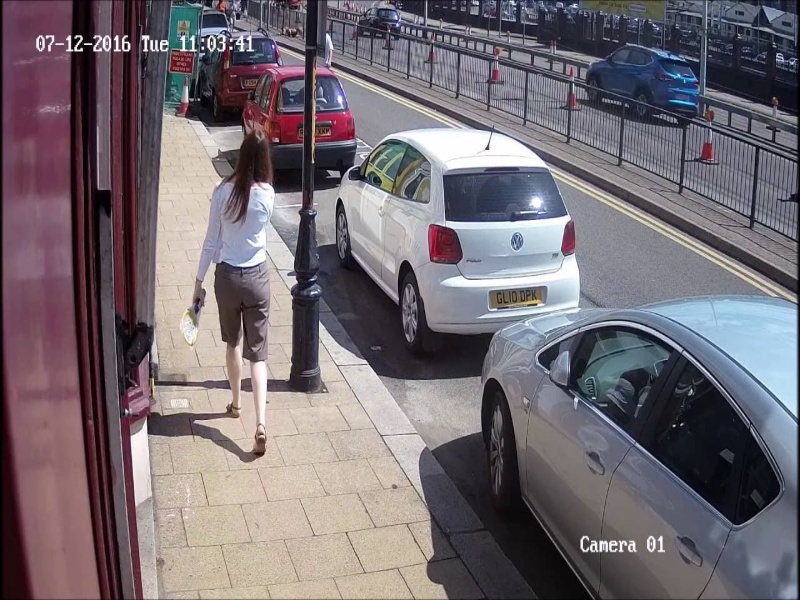person: (180, 122, 281, 459)
